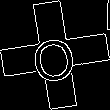O_N: (29, 27, 81, 83)
